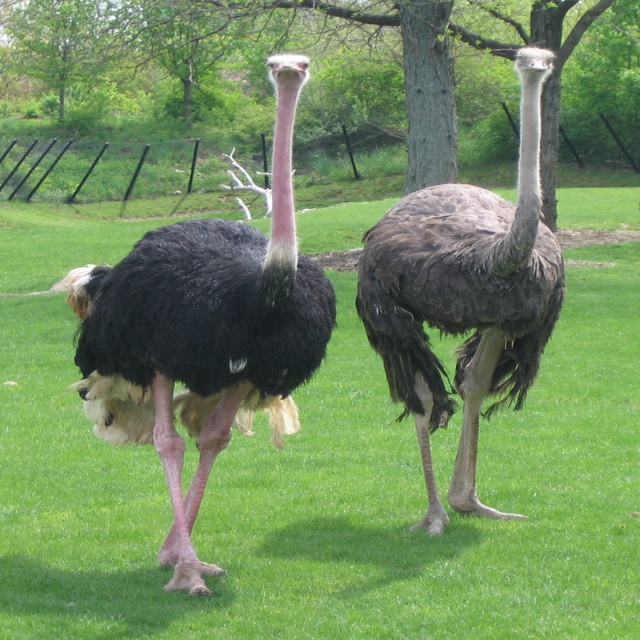Ostrich: (55, 52, 342, 594), (352, 45, 561, 541)
